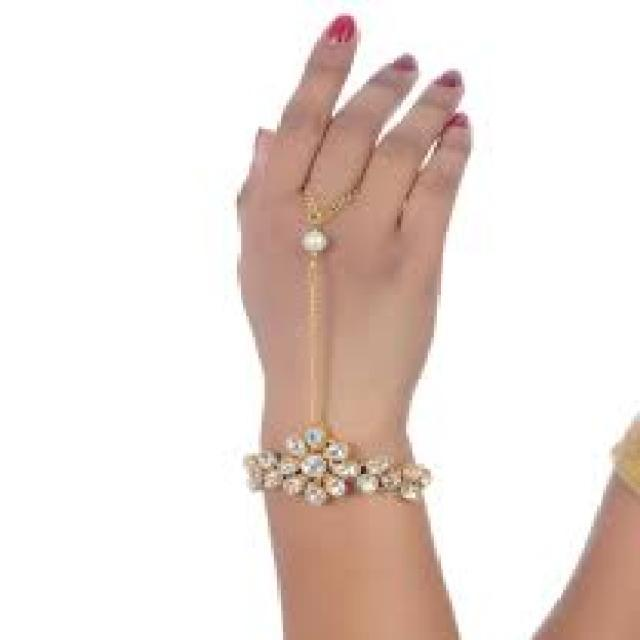Nail: (324, 14, 356, 43), (441, 112, 468, 134), (393, 54, 418, 72), (435, 71, 461, 87)
